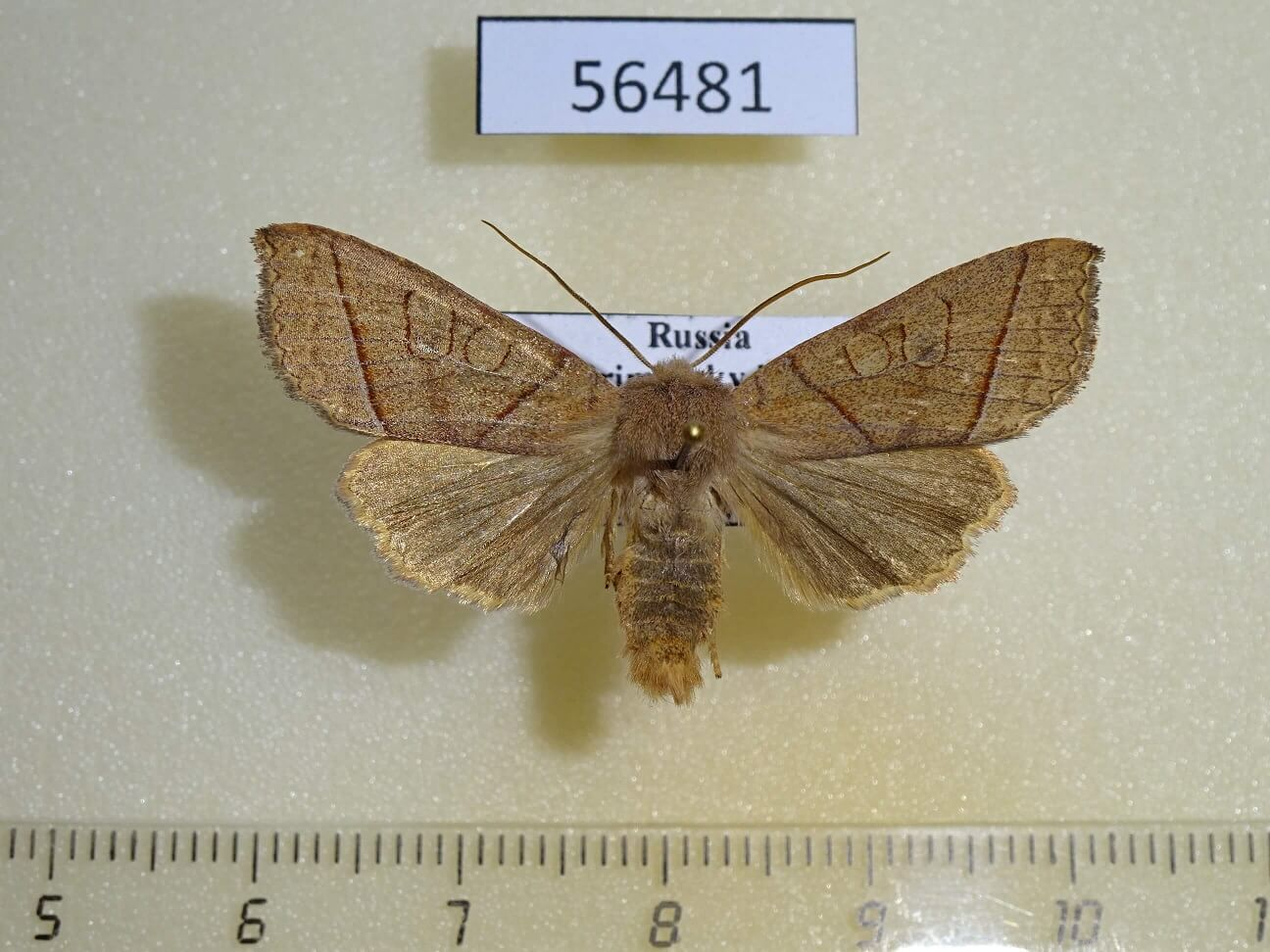Noctuidae: (250, 232, 1110, 704)
